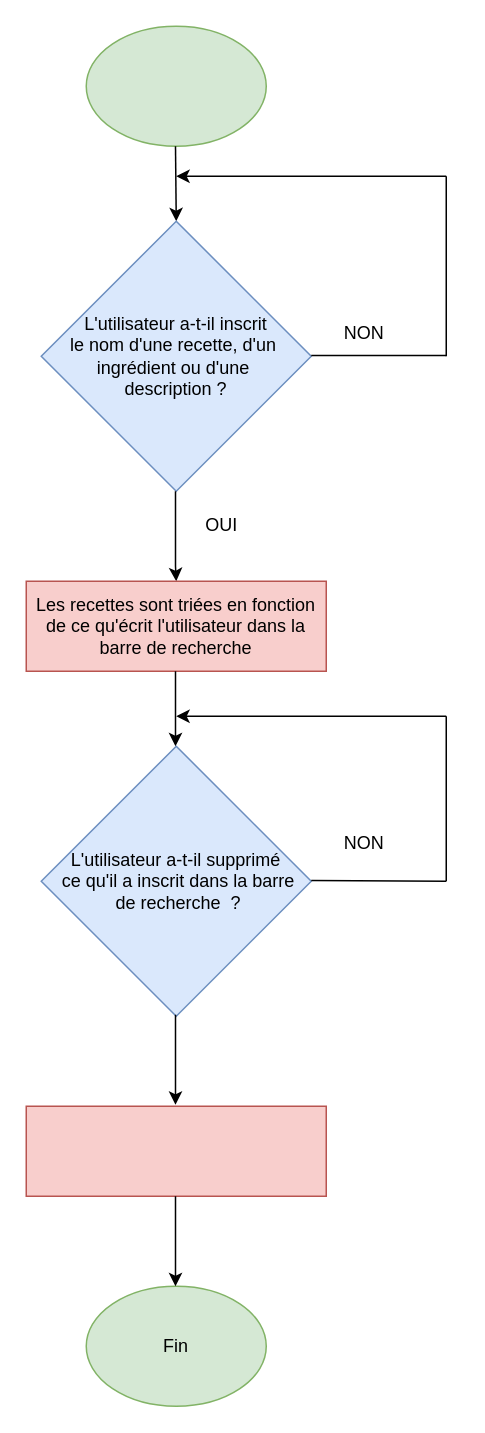
The diagram is 485 pixels wide and 1433 high, and some of its shapes have lost their labels. The box of each missing label's shape, as (x1, y1, x2, y2) in pixels:
Debut: (85, 25, 266, 146)
On revient au point de départ en affichant toutes les recettes: (25, 1105, 326, 1196)
